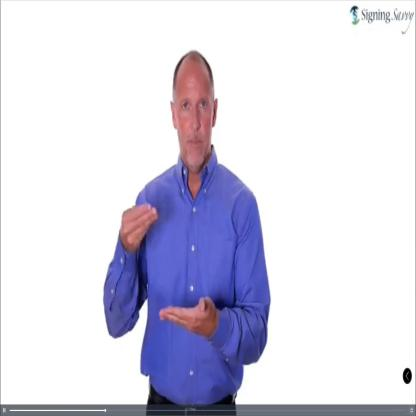Expensive: (105, 190, 215, 352)
